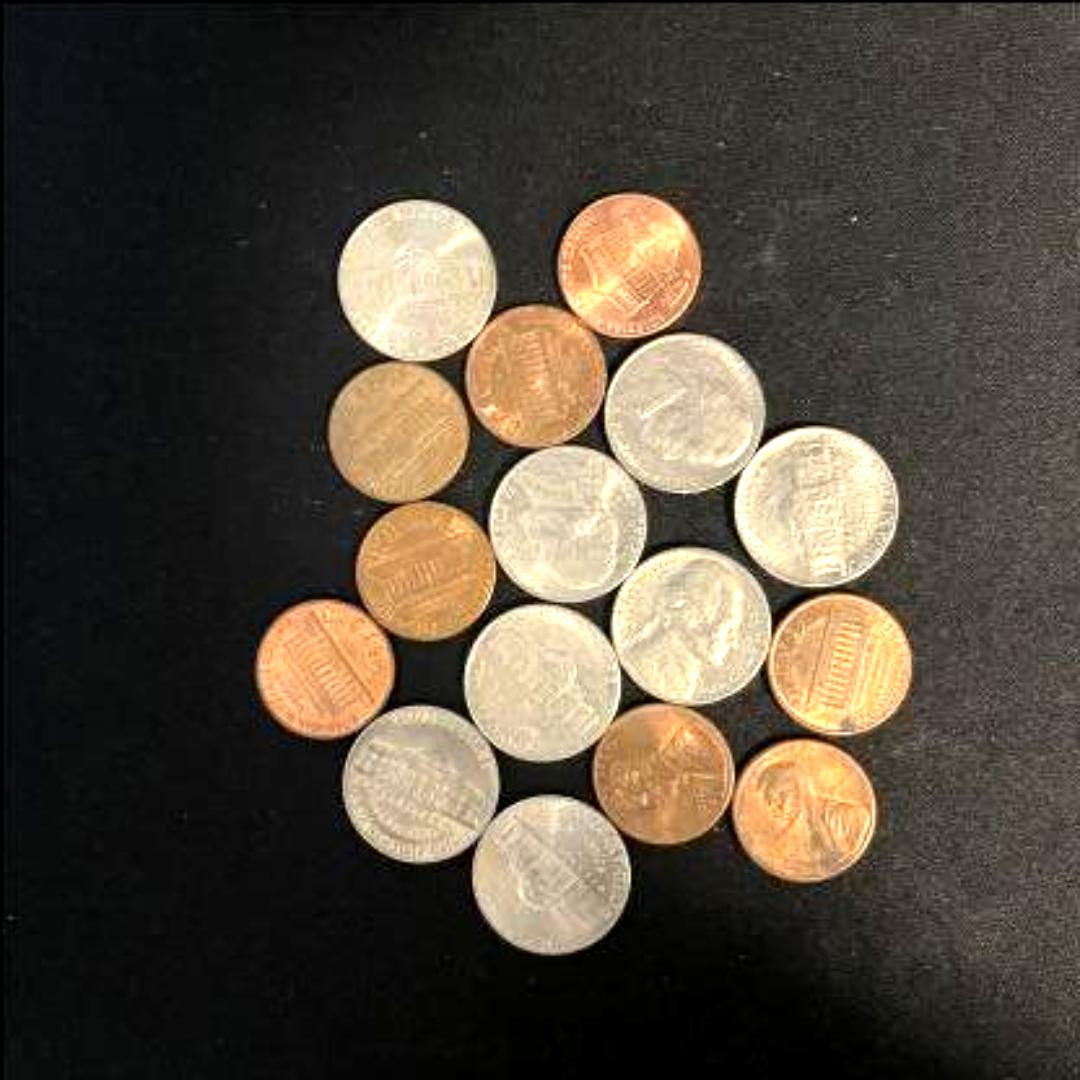Nickel: (727, 421, 900, 587), (597, 327, 763, 493), (602, 543, 768, 709), (468, 789, 628, 955), (335, 195, 493, 361), (333, 701, 496, 861), (488, 439, 644, 605), (457, 600, 617, 760)
Penny: (348, 497, 494, 644), (322, 358, 468, 504), (730, 736, 874, 882), (763, 590, 908, 734), (554, 190, 698, 332), (462, 301, 602, 446), (250, 597, 392, 737), (589, 704, 729, 844)
